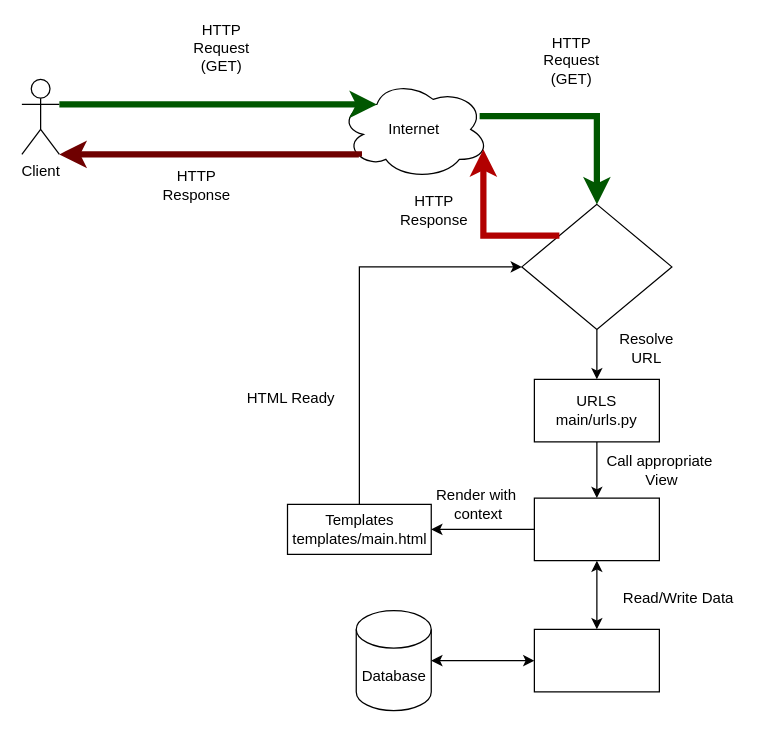
Image size: 769x733. Some labels were removed from this diagram. Here are the shapes that lost their labels. From the top down, the box of each, then its label:
(521, 203, 672, 329): Django/Python manage.py
(533, 497, 659, 561): Views main/views.py
(533, 628, 659, 692): Models main/models.py
